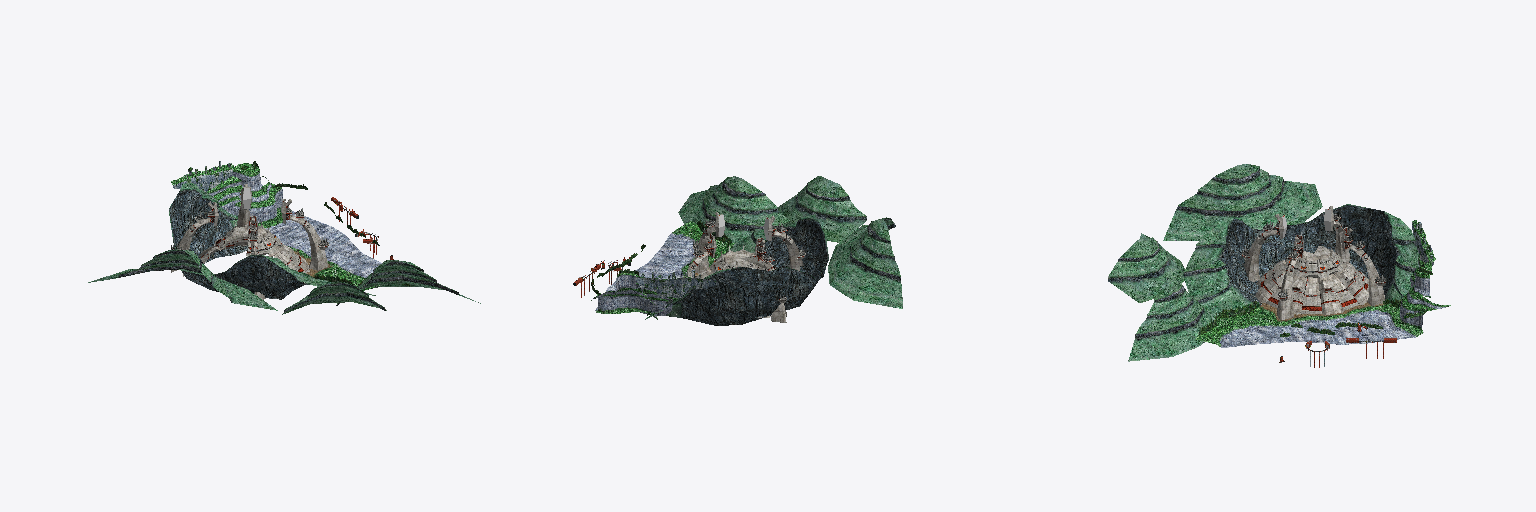
3 renders of one model, left to right at view 1: azimuth 30°, elevation 25°; view 2: azimuth 150°, elevation 25°; view 3: azimuth 270°, elevation 25°, orthographic.
Visible parts, largest first — view 1: polygon31, polygon29, polygon34, polygon48, polygon32, polygon47, polygon33, polygon30, polygon0, polygon6, polygon7; view 2: polygon31, polygon34, polygon32, polygon33, polygon29, polygon48, polygon30, polygon0, polygon47, polygon7, polygon28, polygon6; view 3: polygon34, polygon31, polygon30, polygon32, polygon48, polygon29, polygon33, polygon47, polygon28, polygon26, polygon49.
Boxes of the visible parts, box(x1,y1,x2,y2) form: polygon31: box(170, 191, 304, 299); polygon29: box(269, 211, 381, 277); polygon34: box(88, 250, 277, 310); polygon48: box(171, 208, 328, 299); polygon32: box(336, 260, 480, 305); polygon47: box(190, 184, 328, 272); polygon33: box(282, 281, 386, 314); polygon30: box(169, 183, 375, 295); polygon0: box(173, 161, 233, 192); polygon6: box(233, 170, 282, 222); polygon7: box(233, 174, 282, 220); polygon31: box(683, 220, 827, 325); polygon34: box(828, 217, 902, 308); polygon32: box(678, 176, 789, 242); polygon33: box(778, 176, 866, 242); polygon29: box(596, 234, 694, 309); polygon48: box(676, 226, 805, 322); polygon30: box(645, 214, 828, 319); polygon0: box(636, 270, 718, 298); polygon47: box(689, 212, 804, 317); polygon7: box(598, 276, 656, 314); polygon28: box(598, 221, 734, 313); polygon6: box(593, 274, 657, 319); polygon34: box(1163, 164, 1322, 240); polygon31: box(1222, 206, 1397, 303); polygon30: box(1184, 204, 1418, 315); polygon32: box(1128, 278, 1214, 361); polygon48: box(1242, 220, 1384, 319); polygon29: box(1223, 312, 1415, 347); polygon33: box(1108, 233, 1184, 302); polygon47: box(1242, 206, 1385, 313); polygon28: box(1195, 304, 1422, 343); polygon26: box(1216, 307, 1423, 347); polygon49: box(1256, 223, 1371, 306).
Bounding box in the file's own units: 9525 × 2662 × 9291.
38 materials, 32 textured.